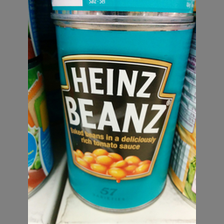beans: (51, 21, 194, 214)
